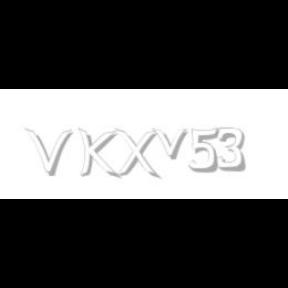3: (216, 128, 248, 172)
5: (189, 128, 220, 174)
K: (77, 128, 117, 180)
V: (25, 128, 73, 176)
X: (114, 128, 158, 180)
v: (152, 128, 192, 160)
